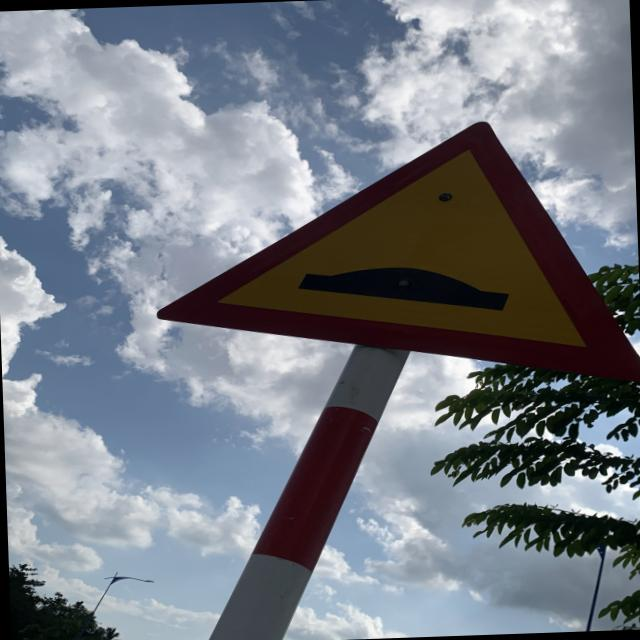Duong_Cong_Ben_Phai: (144, 111, 640, 403)
